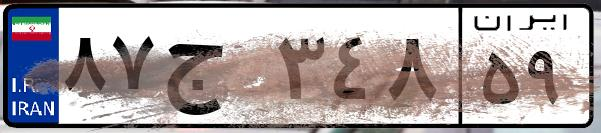3: (270, 28, 330, 110)
4: (330, 28, 385, 110)
5: (475, 38, 525, 113)
7: (110, 28, 158, 98)
8: (385, 28, 445, 110), (57, 26, 110, 100)
9: (525, 38, 570, 115)
ج: (158, 20, 270, 120)
